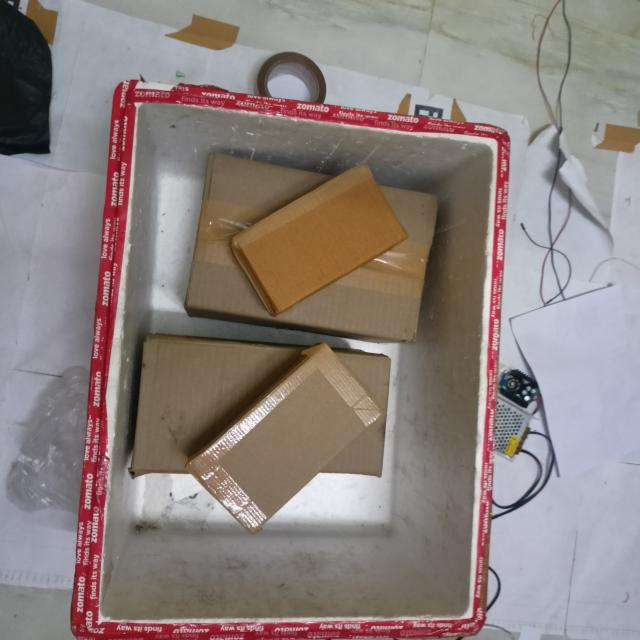box: (194, 344, 382, 533), (232, 163, 402, 310)
